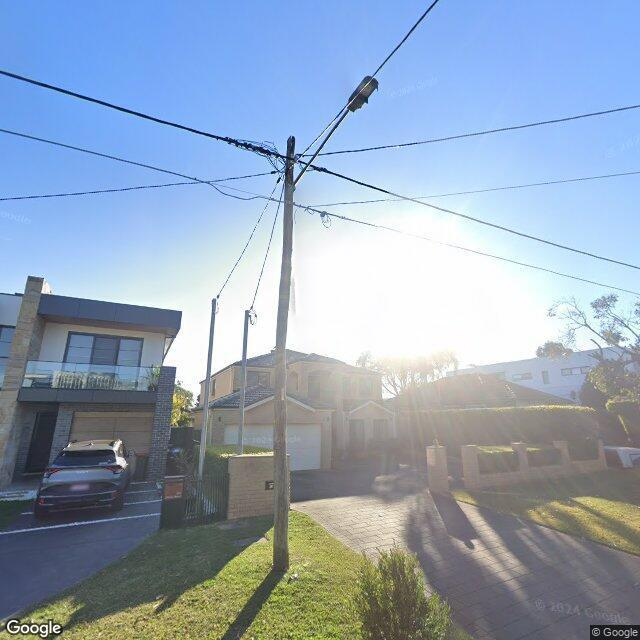steel-pole: (195, 298, 218, 516), (238, 309, 250, 454)
streetlight: (290, 75, 379, 191)
timber-pole: (273, 135, 296, 571)
